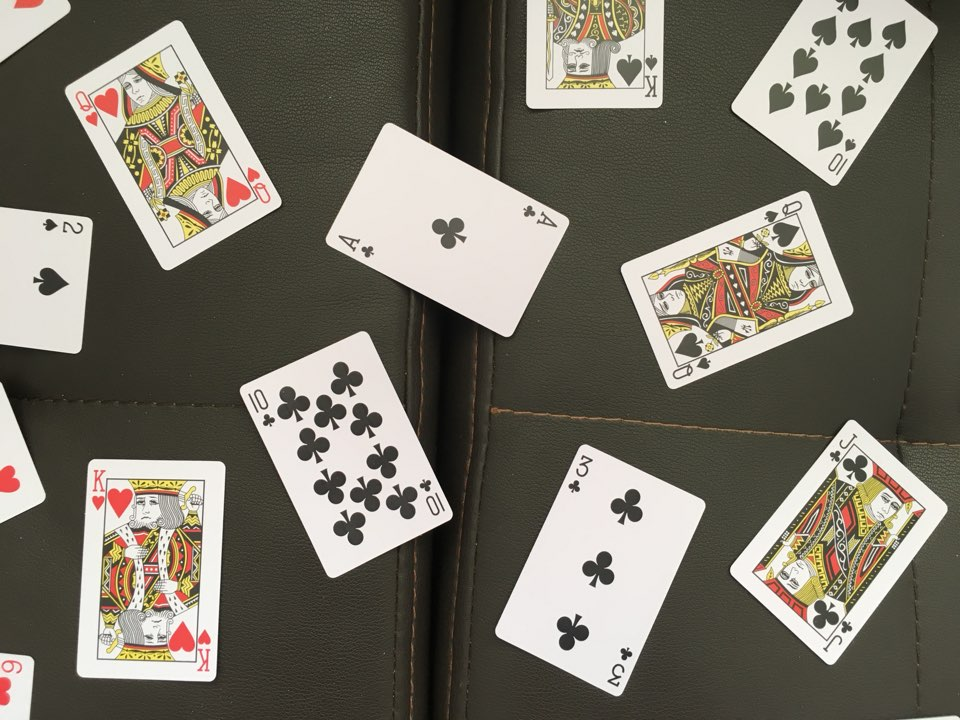ace: (317, 115, 572, 343)
jack: (722, 412, 952, 673)
king: (68, 448, 231, 686), (518, 1, 675, 117)
queen: (61, 17, 291, 273), (617, 187, 864, 397)
ten: (234, 323, 460, 584), (725, 1, 943, 194)
